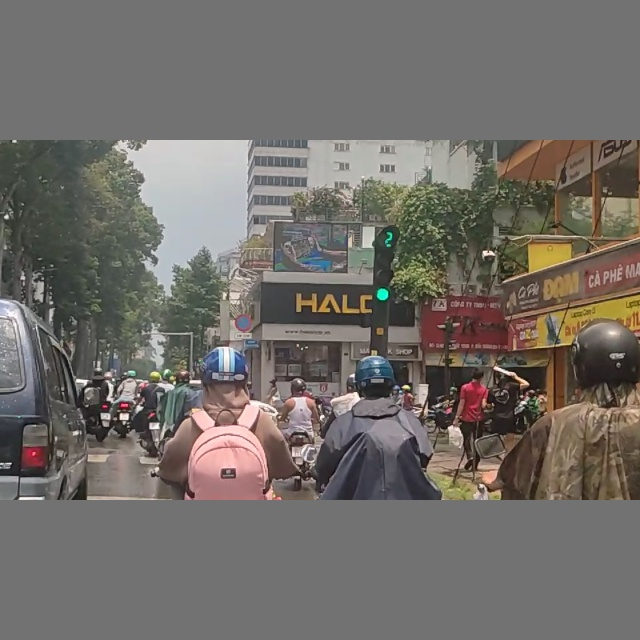P.131a: (234, 313, 252, 333)
